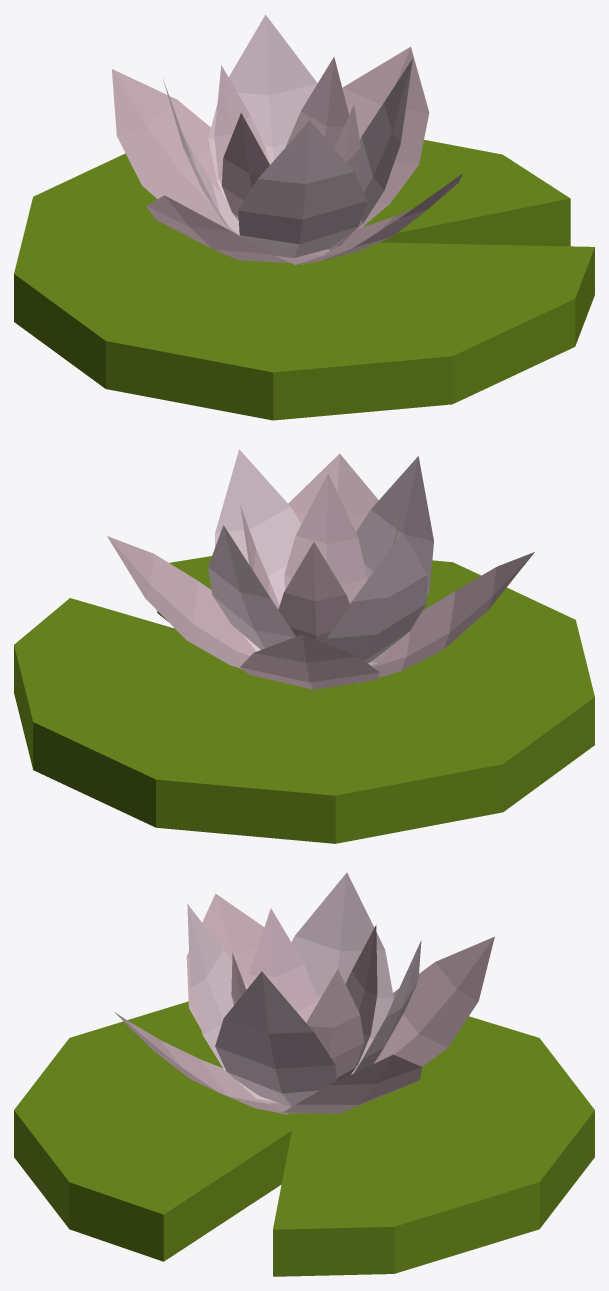
Rendered from WaterLily_Lime_Flower_1.fbx.
3 renders of one model, top to bottom at view 1: azimuth 30°, elevation 25°; view 2: azimuth 150°, elevation 25°; view 3: azimuth 270°, elevation 25°, orthographic. The views are drawn at different scales.
Parts seen in each view (by area): view 1: Cylinder.592, Plane.138, Plane.132, Plane.143; view 2: Cylinder.592, Plane.138, Plane.132, Plane.143; view 3: Cylinder.592, Plane.138, Plane.132, Plane.143.
Part boxes in pixels (x1,y1,x2,y2): Cylinder.592: (14,140,594,420); Plane.138: (163,14,412,257); Plane.132: (112,46,462,265); Plane.143: (214,56,360,220); Cylinder.592: (14,556,594,843); Plane.138: (208,449,433,665); Plane.132: (107,453,534,689); Plane.143: (240,473,401,643); Cylinder.592: (14,1001,594,1276); Plane.138: (187,872,421,1106); Plane.132: (114,893,494,1114); Plane.143: (231,908,377,1081).
Size of the model in its own units: 115 by 51.51 by 119.
